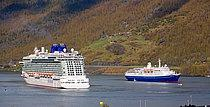Ship: (18, 42, 95, 94), (123, 58, 186, 87)
